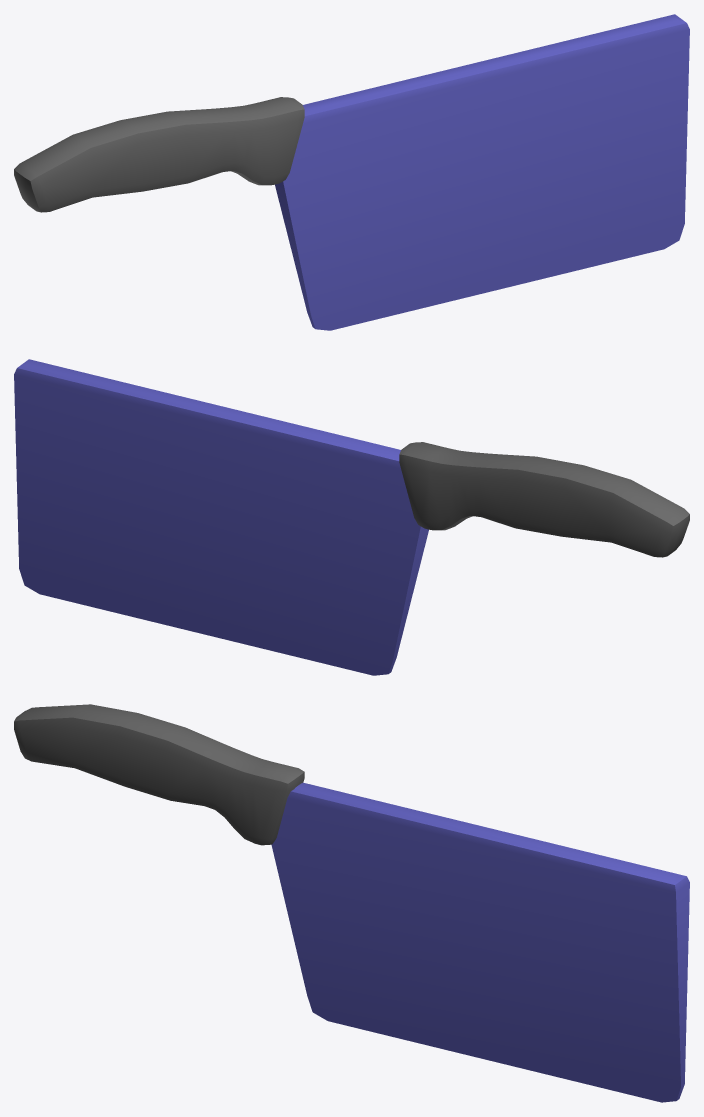
The model's file is SM_knife_03.fbx.
3 views of the same model, one above another, from view 1: azimuth 30°, elevation 25°; view 2: azimuth 150°, elevation 25°; view 3: azimuth 330°, elevation 25° (orthographic).
Parts seen in each view (by area): view 1: Box401; view 2: Box401; view 3: Box401.
Boxes of the visible parts, x1,y1,x2,y2 form: Box401: [14, 14, 689, 330]; Box401: [14, 359, 689, 675]; Box401: [14, 704, 689, 1102].
Bounding box in the file's own units: 29.76 × 10.93 × 1.65.
